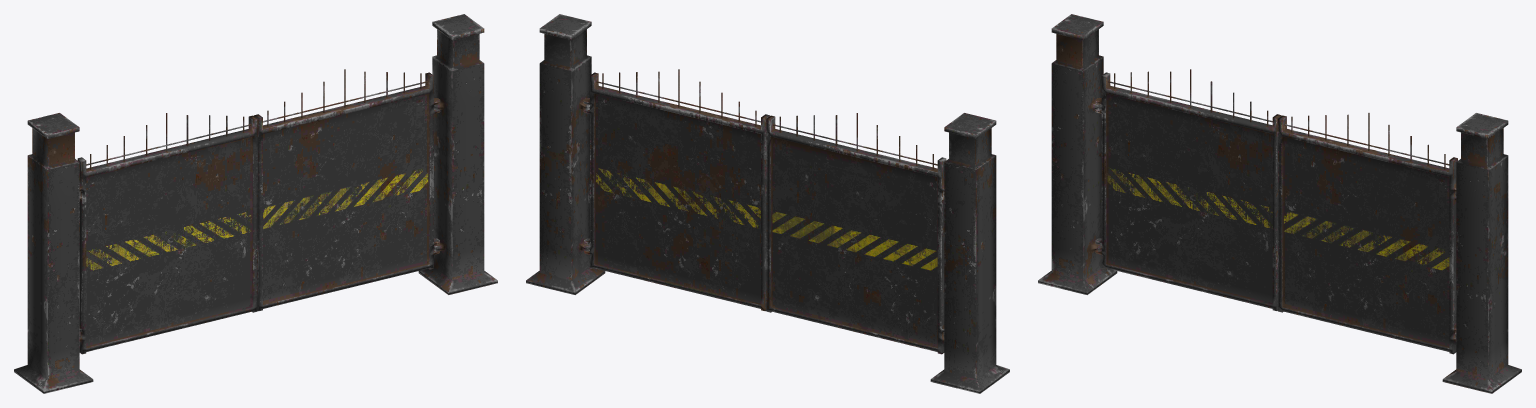
Rendered from muro.fbx.
3 views of the same model, side by side, from view 1: azimuth 30°, elevation 25°; view 2: azimuth 150°, elevation 25°; view 3: azimuth 330°, elevation 25° (orthographic).
Visible parts, largest first — view 1: west_door_low_poly, left_door_low_poly, lcolumn_low_poly; view 2: west_door_low_poly, left_door_low_poly, lcolumn_low_poly; view 3: left_door_low_poly, west_door_low_poly, lcolumn_low_poly.
Boxes of the visible parts, bbox=[...] form: west_door_low_poly: bbox=[77, 113, 257, 354]; left_door_low_poly: bbox=[254, 69, 440, 311]; lcolumn_low_poly: bbox=[14, 14, 497, 393]; west_door_low_poly: bbox=[766, 113, 946, 354]; left_door_low_poly: bbox=[583, 69, 769, 311]; lcolumn_low_poly: bbox=[526, 14, 1009, 393]; left_door_low_poly: bbox=[1278, 113, 1457, 354]; west_door_low_poly: bbox=[1095, 69, 1281, 310]; lcolumn_low_poly: bbox=[1038, 14, 1521, 393].
Bounding box in the file's own units: 593 × 316 × 67.55.
1 material, 1 textured.
